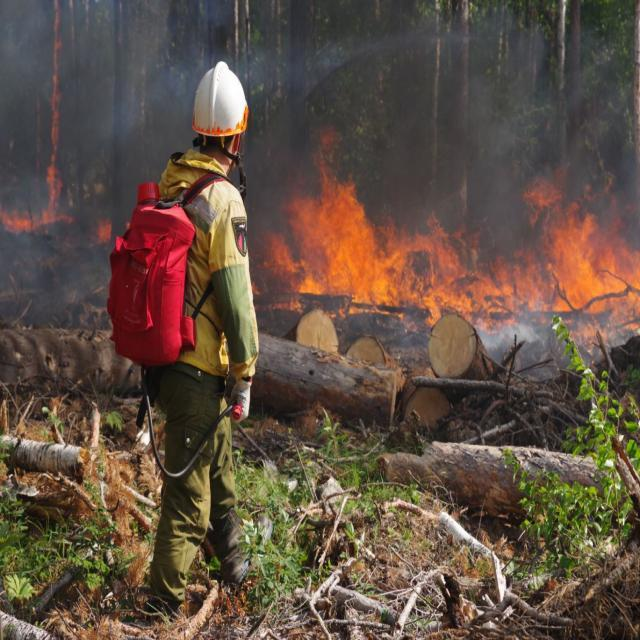Fire: (264, 130, 640, 342), (48, 6, 64, 221), (0, 209, 54, 233), (95, 218, 113, 243)
Smoke: (0, 0, 640, 350)
